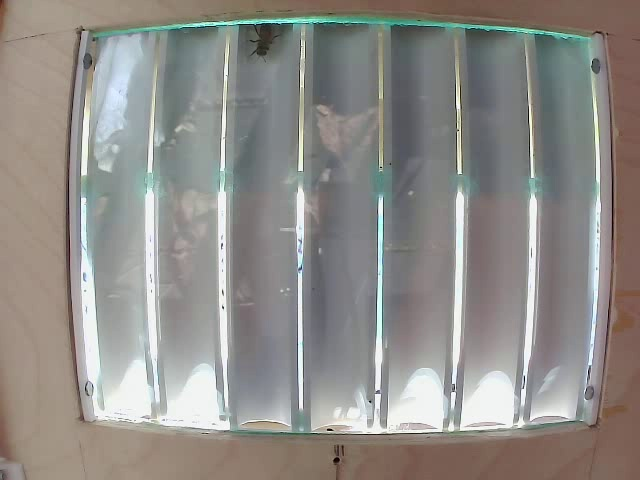bee: (245, 22, 277, 64)
